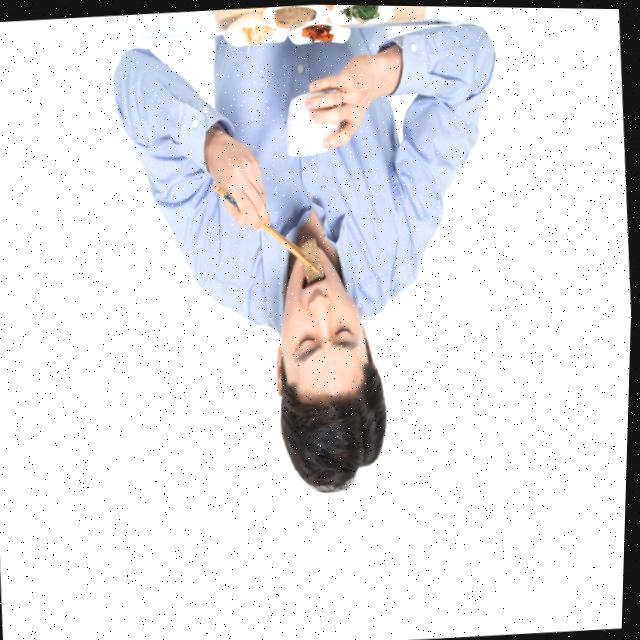eating-person: (105, 1, 539, 533)
